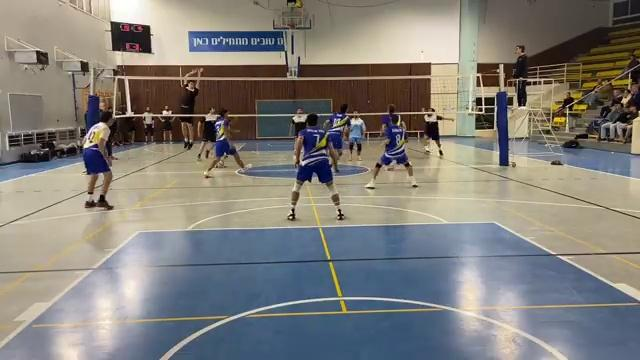ball: (297, 3, 306, 10)
